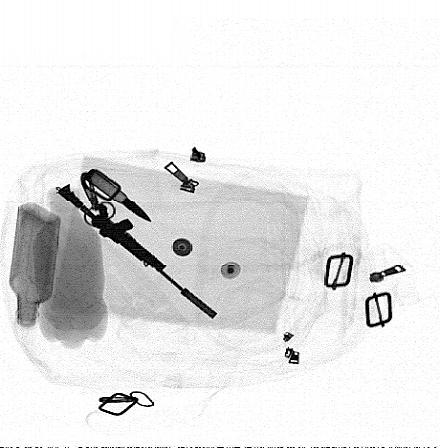Bullet: (85, 168, 152, 221)
Gun: (57, 181, 218, 319)
